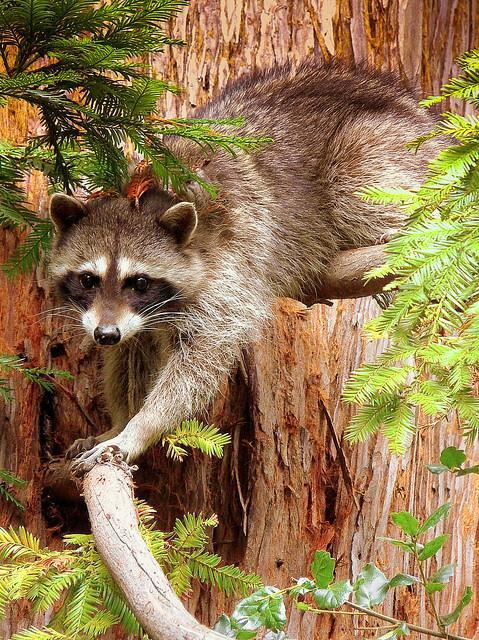raccoon: (43, 59, 470, 475)
